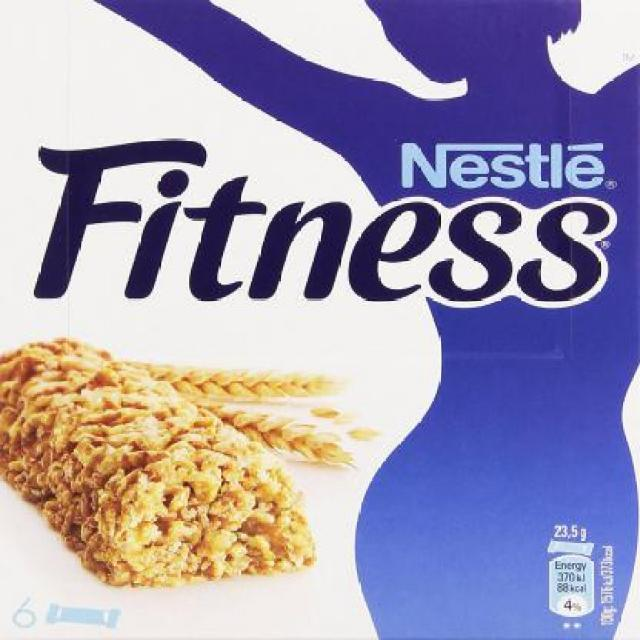Cereal bar: (1, 11, 640, 626)
